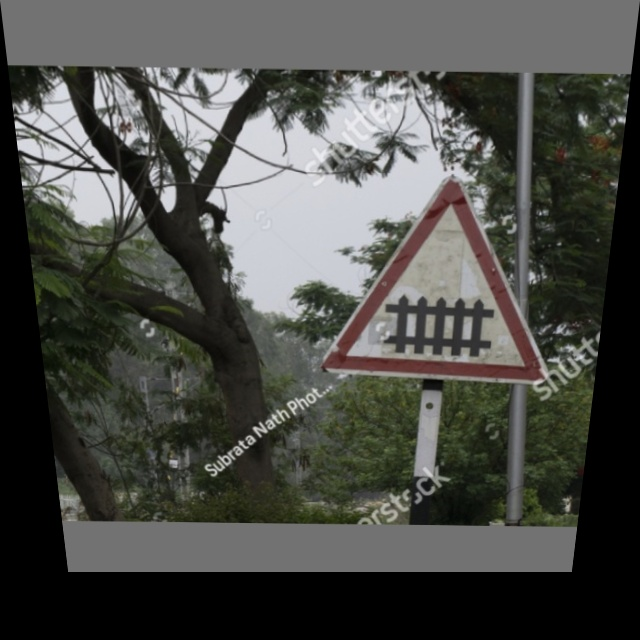Guarded_Level_Crossing: (325, 181, 571, 380)
